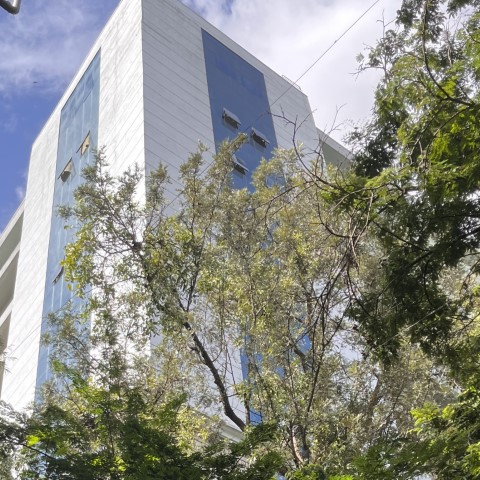Central Block: (10, 5, 339, 213)
